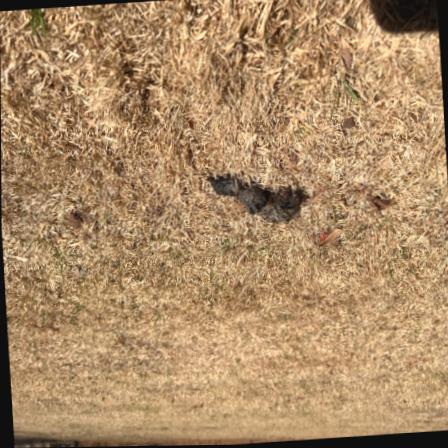dog-poop: (207, 174, 322, 238)
